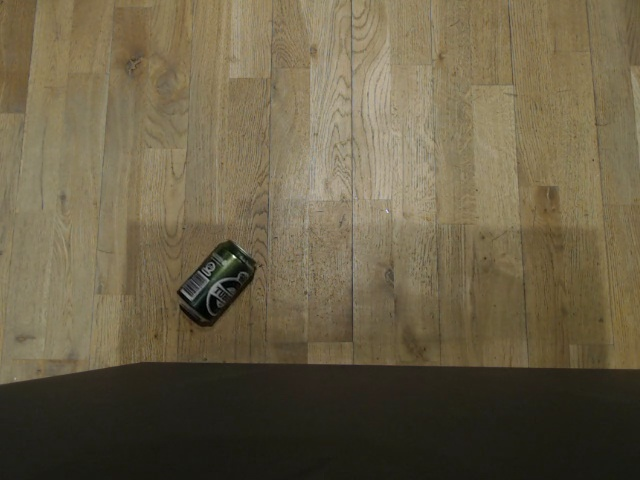beer: (173, 237, 259, 328)
